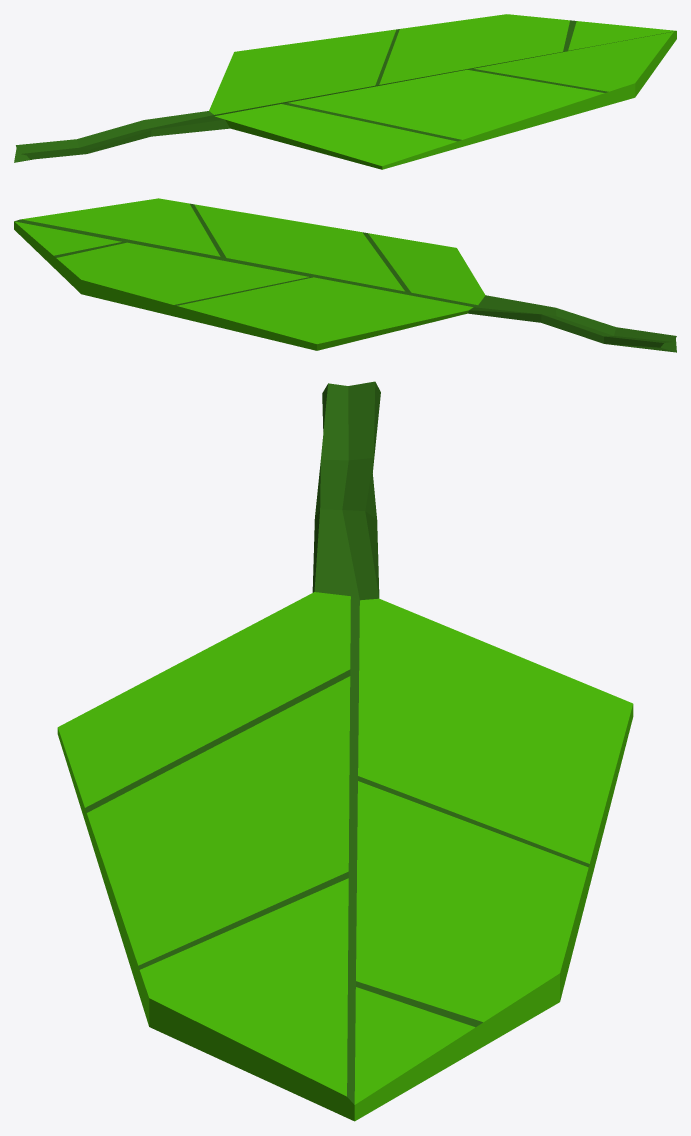
Rendered from hojaDelpisoPajaro.fbx.
3 renders of one model, top to bottom at view 1: azimuth 30°, elevation 25°; view 2: azimuth 150°, elevation 25°; view 3: azimuth 270°, elevation 25°, orthographic. The views are drawn at different scales.
Parts seen in each view (by area): view 1: Circle; view 2: Circle; view 3: Circle.
Boxes of the visible parts, bbox=[...] form: Circle: bbox=[14, 14, 676, 169]; Circle: bbox=[14, 198, 676, 352]; Circle: bbox=[57, 381, 633, 1121].
Bounding box in the file's own units: 5.86 × 0.4241 × 2.2.
